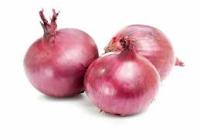onion: (18, 7, 96, 102), (87, 37, 168, 119), (104, 21, 181, 81)
